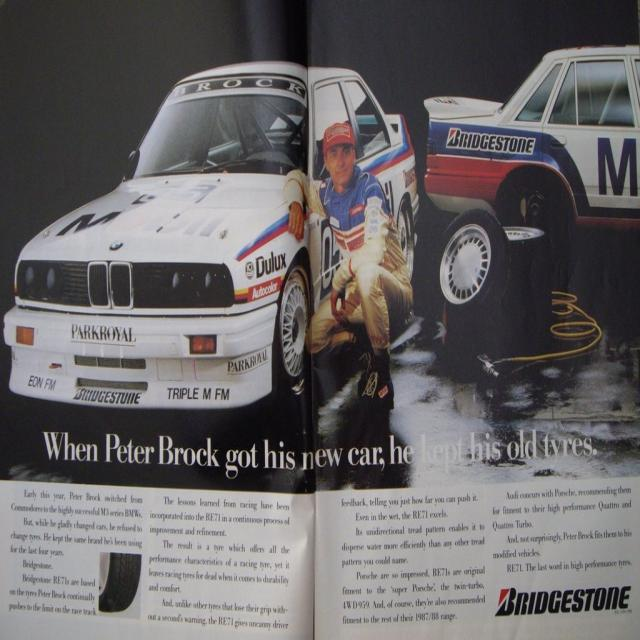car: (2, 57, 421, 422), (424, 47, 639, 262)
